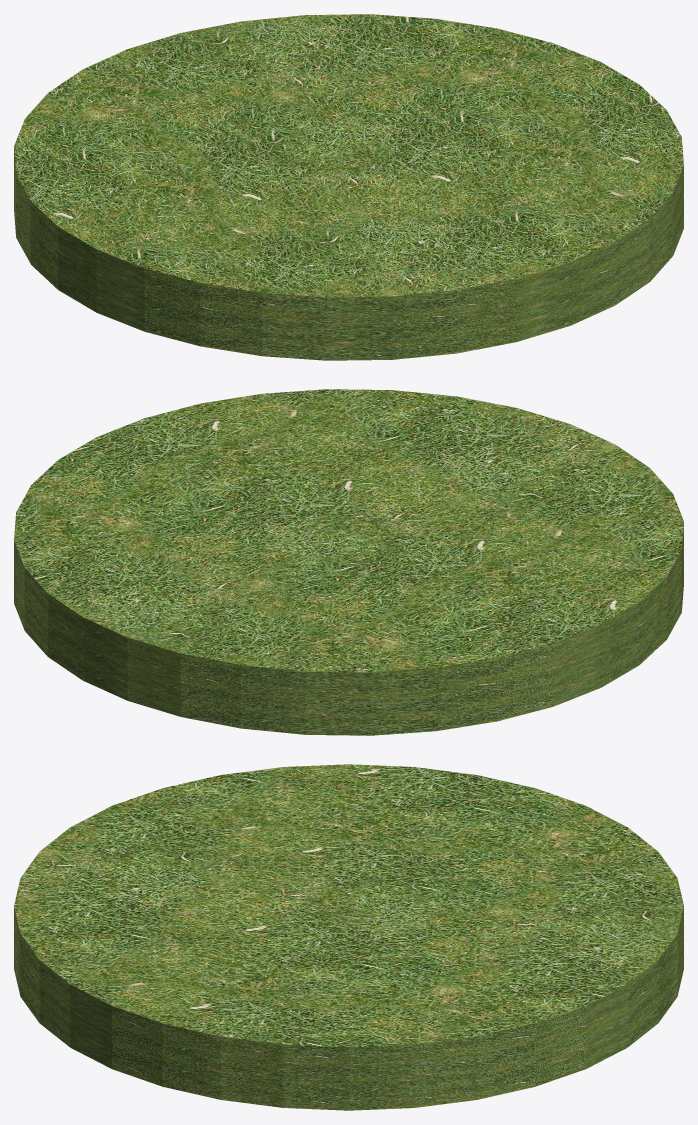
The model's file is grass_circle.obj.
The picture shows the model from 3 angles, top to bottom: view 1: azimuth 30°, elevation 25°; view 2: azimuth 150°, elevation 25°; view 3: azimuth 270°, elevation 25°; orthographic projection.
Visible parts, largest first — view 1: Cylinder.002; view 2: Cylinder.002; view 3: Cylinder.002.
Boxes of the visible parts, left/top/right/bottom form: Cylinder.002: left=14, top=14, right=683, bottom=360; Cylinder.002: left=14, top=389, right=683, bottom=735; Cylinder.002: left=14, top=764, right=683, bottom=1110.
Bounding box in the file's own units: 14.06 × 1.47 × 14.06.
